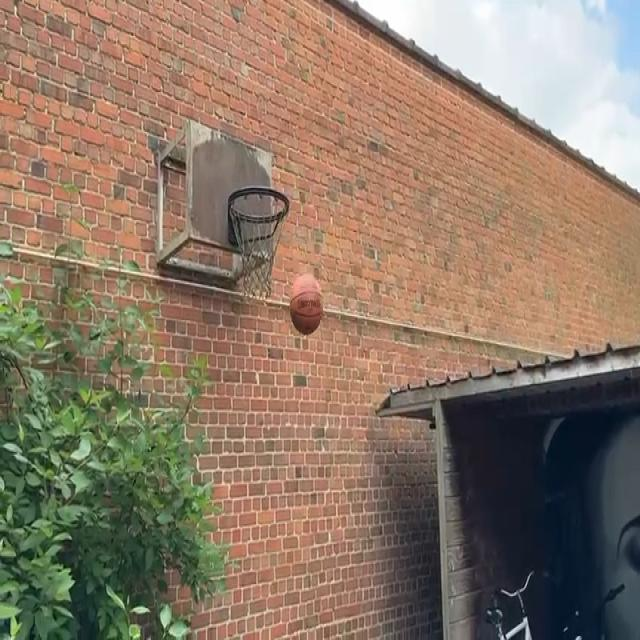Basketball: (290, 278, 324, 336)
